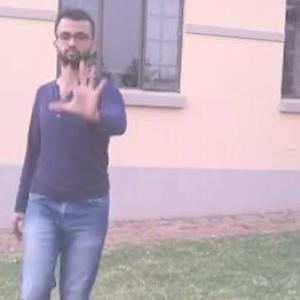follow_hand: (47, 53, 113, 121)
